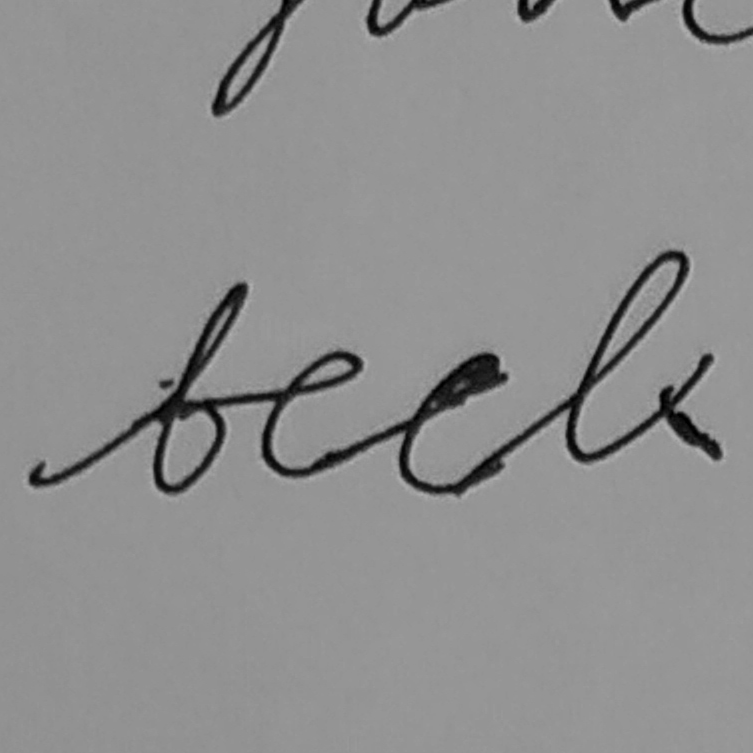b: (148, 280, 249, 496)
c: (396, 352, 511, 499)
e: (258, 347, 368, 484)
k: (560, 246, 725, 469)
